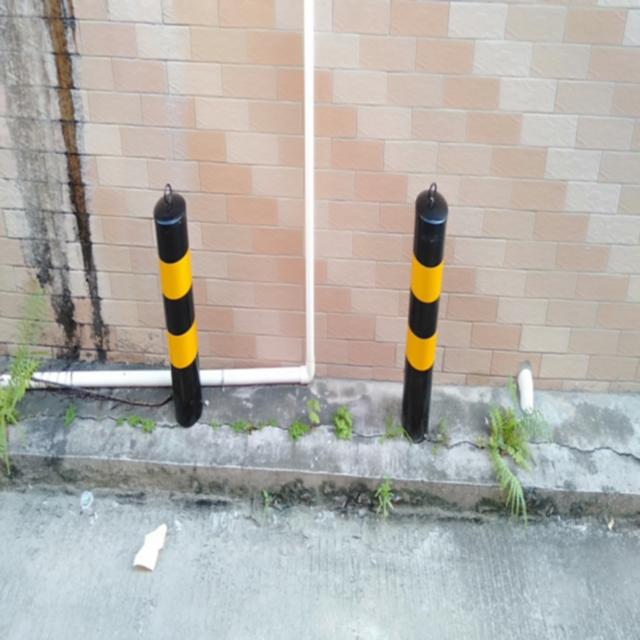warning_column: (400, 188, 450, 440), (151, 186, 203, 426)
